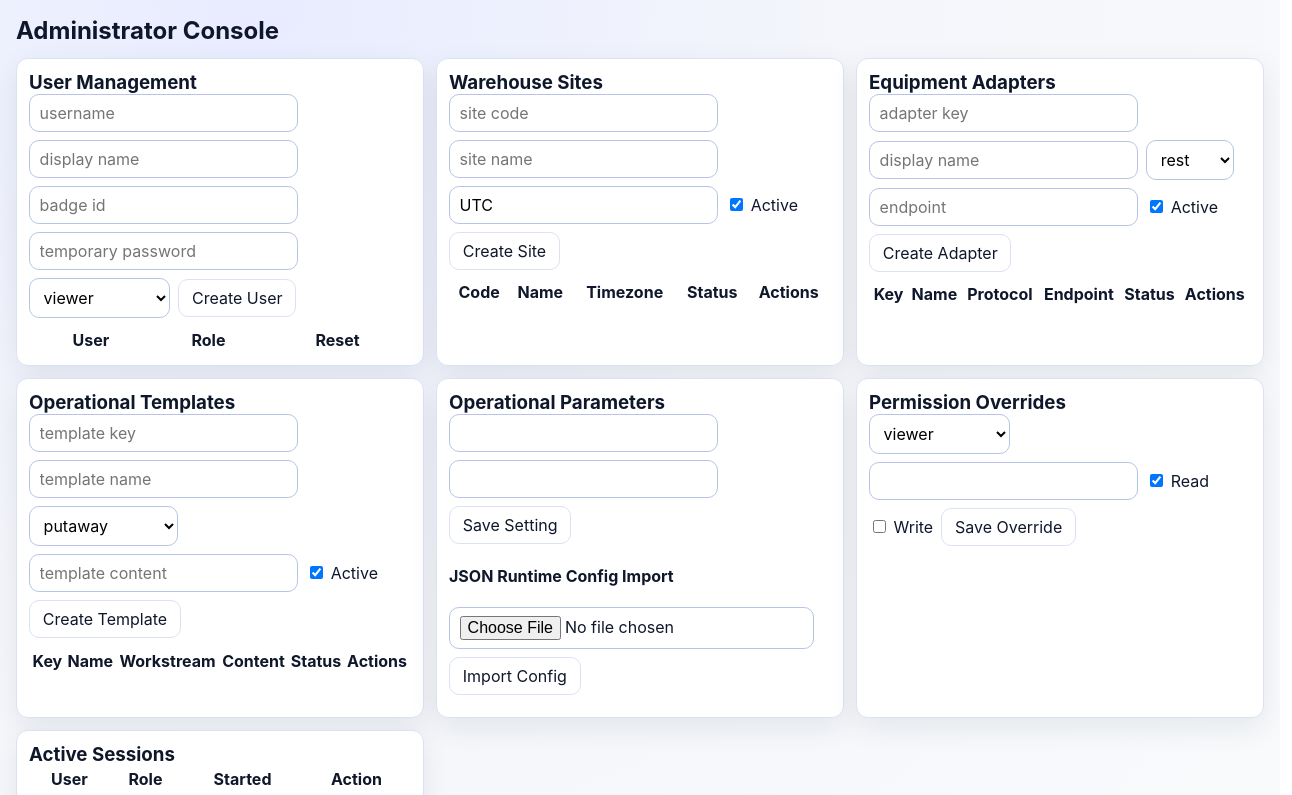
AdminConsole › Save Equipment Adapter persists and reflects the adapter table entry
The width and height of the screenshot is (1292, 795).
Expected: the heading "Equipment Adapters" is shown, [869, 71, 1056, 94]
Type "agv-north" into the field with placeholder "adapter key".
click(1004, 113); type("agv-north")  # box [869, 94, 1138, 132]
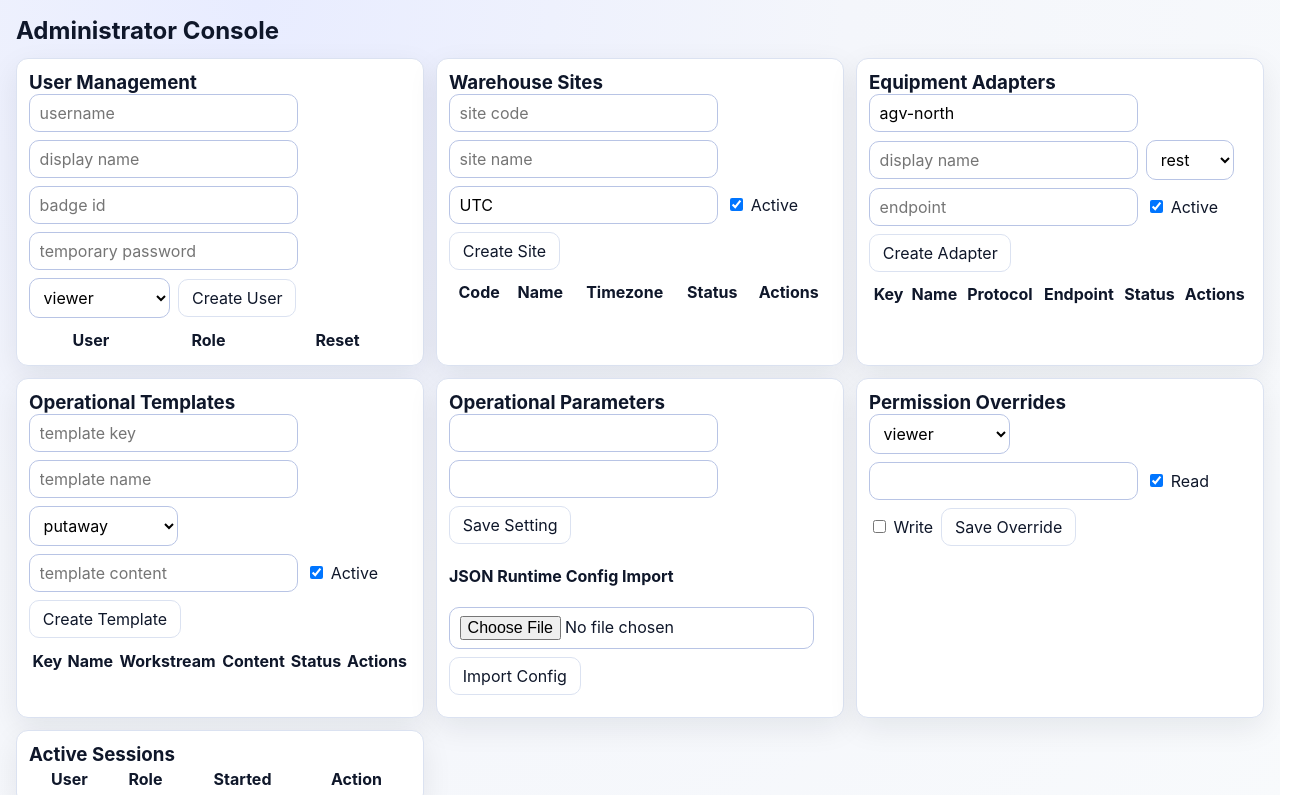
Type "AGV North Loop" into the field with placeholder "display name" below "Equipment Adapters".
click(1004, 160); type("AGV North Loop")  # box [869, 141, 1138, 179]
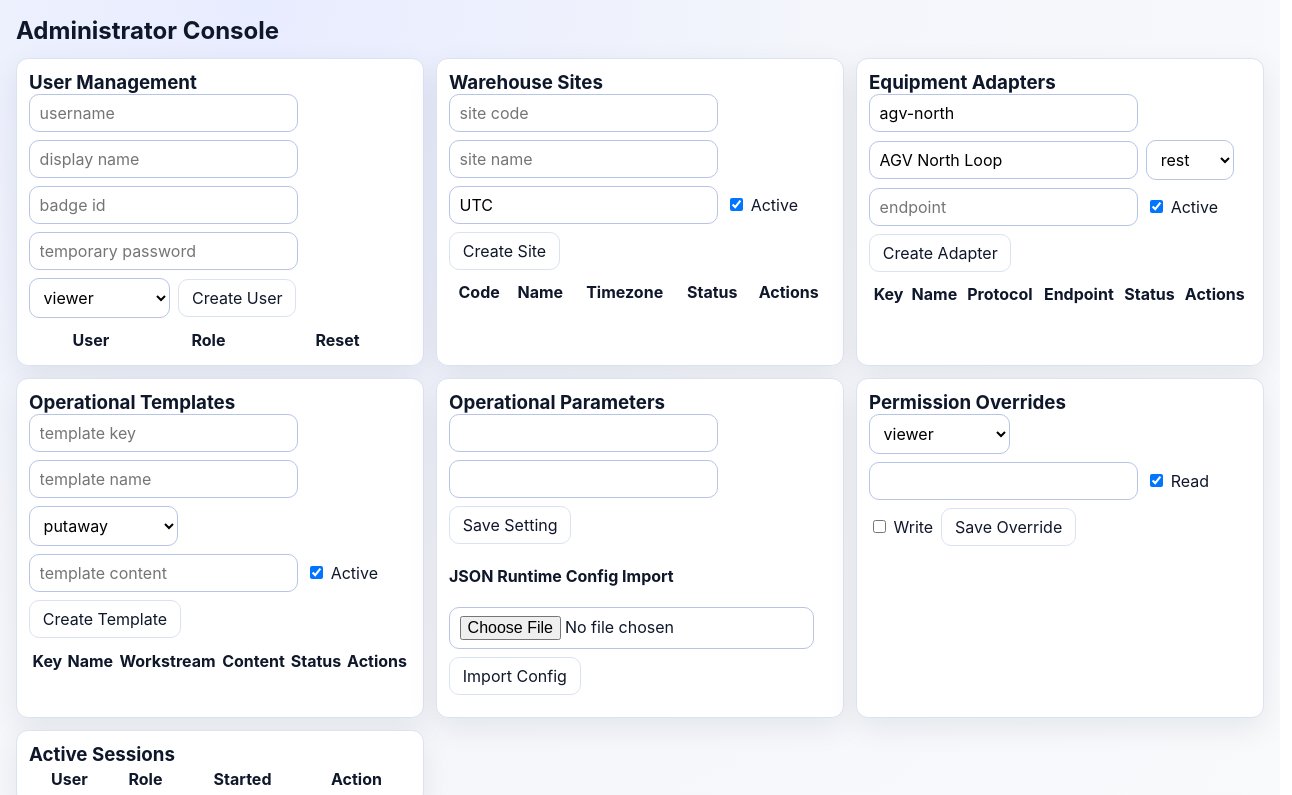
Type "mqtt://broker:1883/agv" into the field with placeholder "endpoint".
click(1004, 207); type("mqtt://broker:1883/agv")  # box [869, 188, 1138, 226]
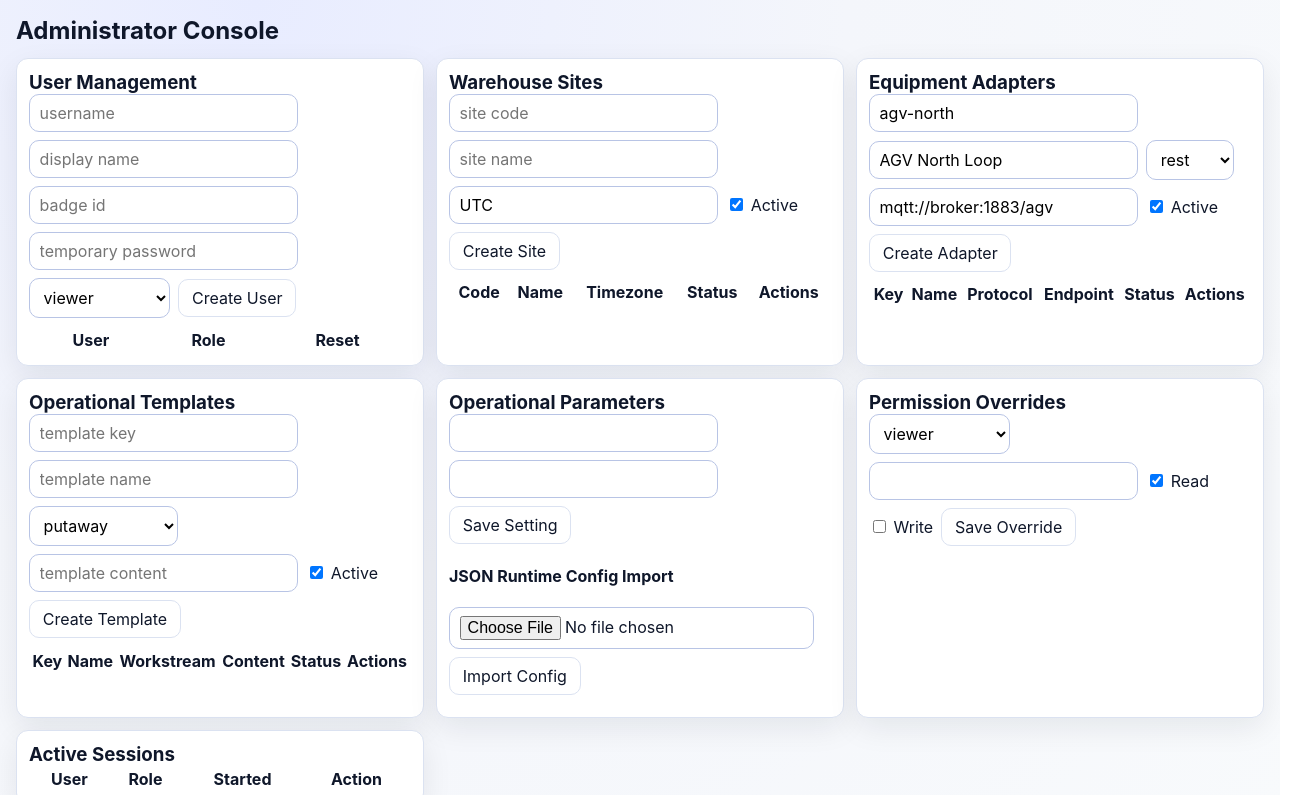
Click the button "Create Adapter".
click(940, 253)  # box [869, 234, 1012, 272]
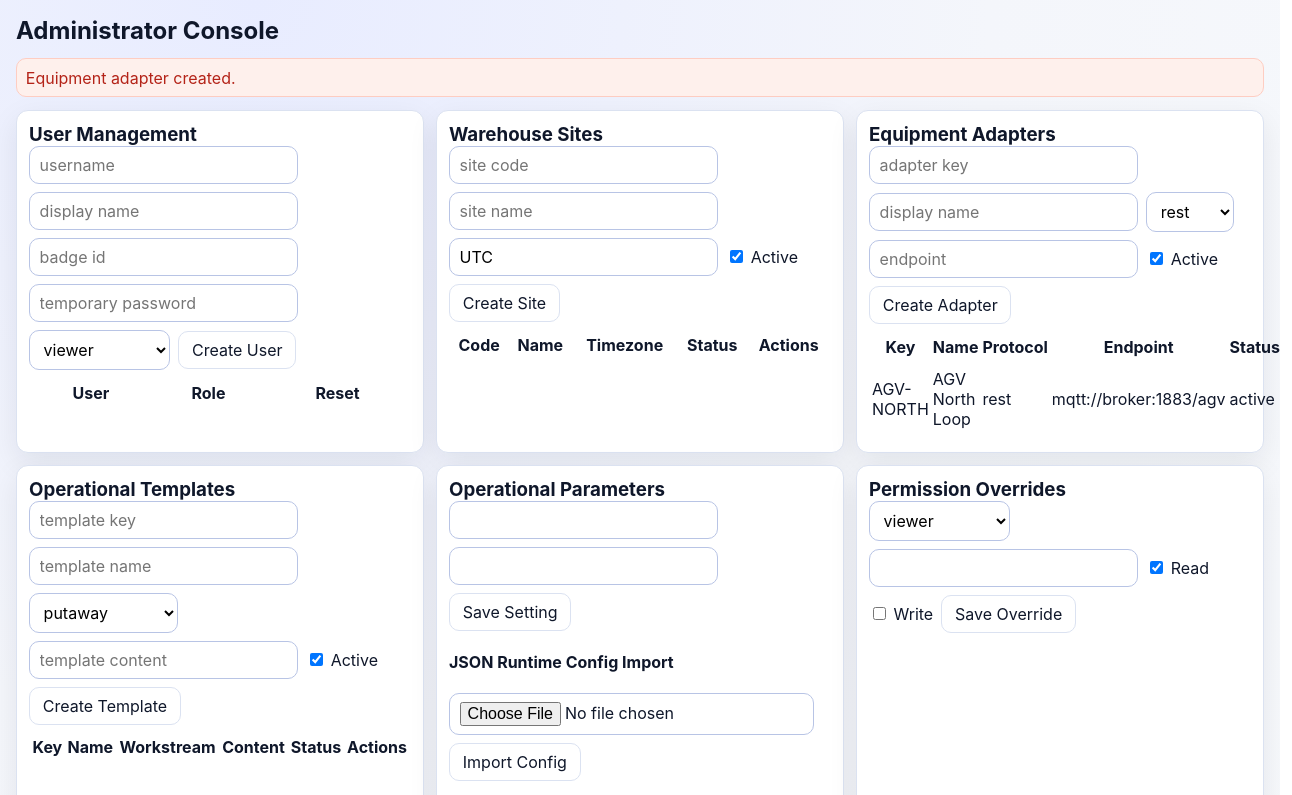
Now the text "AGV-NORTH" is shown, box [871, 360, 930, 438]
